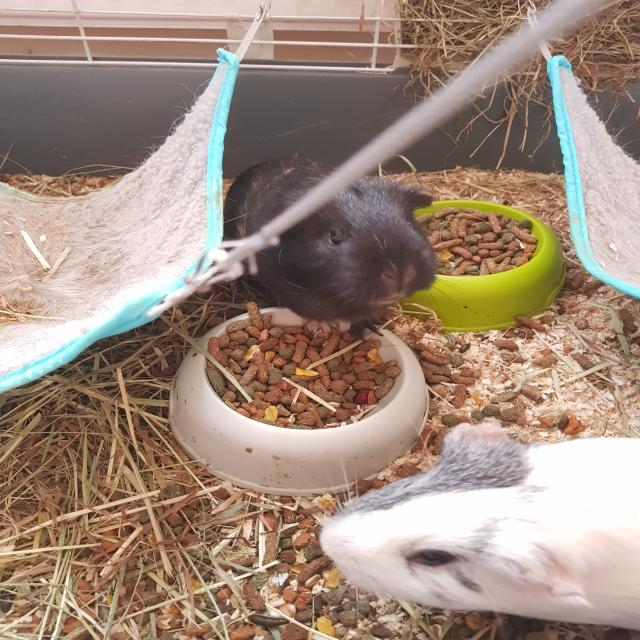guinea pig: (313, 420, 640, 634), (224, 152, 441, 346)
